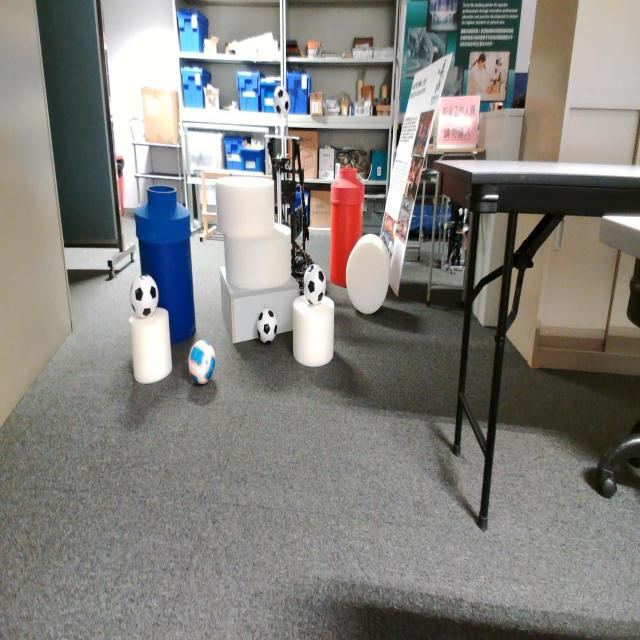Soccer Ball: (188, 336, 216, 386), (130, 273, 159, 318), (303, 265, 326, 306), (257, 308, 277, 344), (303, 264, 315, 306), (273, 88, 290, 116), (316, 264, 326, 305)
